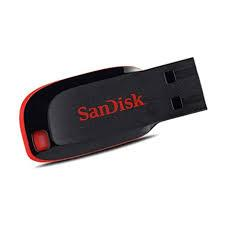Flash-drive: (4, 35, 215, 174)
